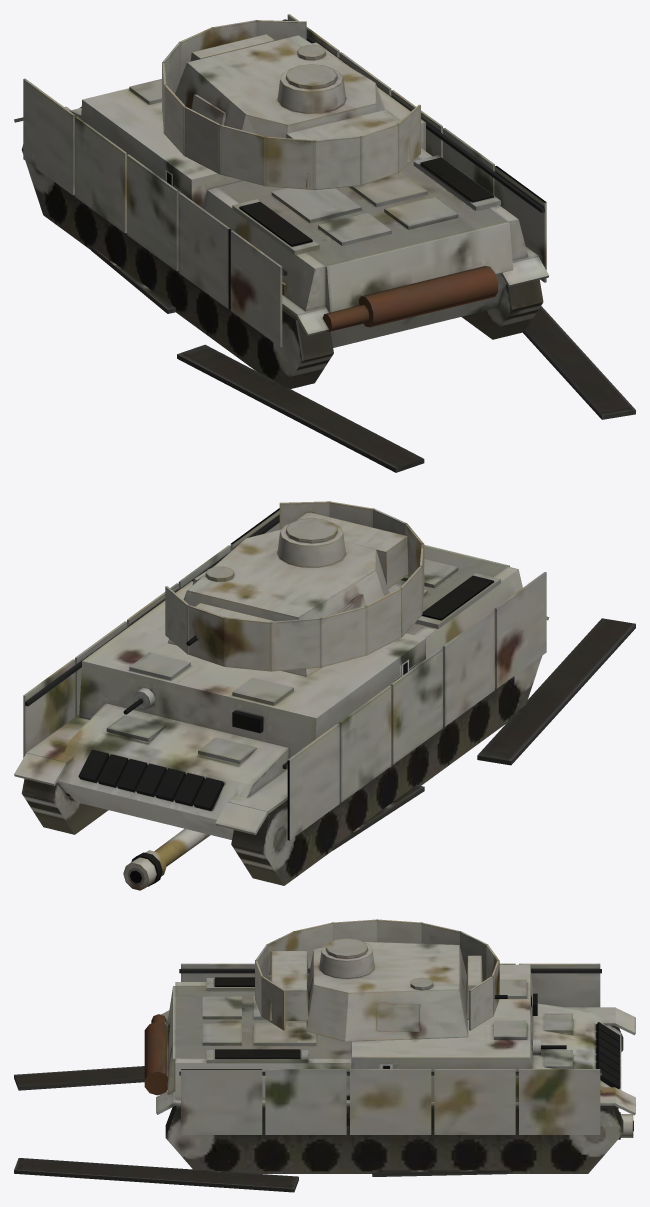
Rendered from pz4gh_winter.glb.
3 views of the same model, one above another, from view 1: azimuth 30°, elevation 25°; view 2: azimuth 150°, elevation 25°; view 3: azimuth 270°, elevation 25° (orthographic). The views are drawn at different scales.
Visible parts, largest first — view 1: hull_ok, turret_ok, hull_trackL, hull_trackR; view 2: hull_ok, turret_ok, hull_trackL, gun_ok; view 3: hull_ok, turret_ok, hull_trackR, hull_trackL.
Boxes of the visible parts, x1,y1,x2,y2 form: hull_ok: (14,14,549,388); turret_ok: (162,20,420,190); hull_trackL: (91,246,424,472); hull_trackR: (522,306,635,419); hull_ok: (14,508,549,885); turret_ok: (165,501,424,676); hull_trackL: (332,618,635,850); gun_ok: (123,828,210,890); hull_ok: (144,963,635,1173); turret_ok: (255,919,507,1041); hull_trackR: (14,1158,509,1192); hull_trackL: (14,1066,144,1090).
Bounding box in the file's own units: 4.02 × 2.85 × 7.95.
Materials: 11 (11 with a texture image).
